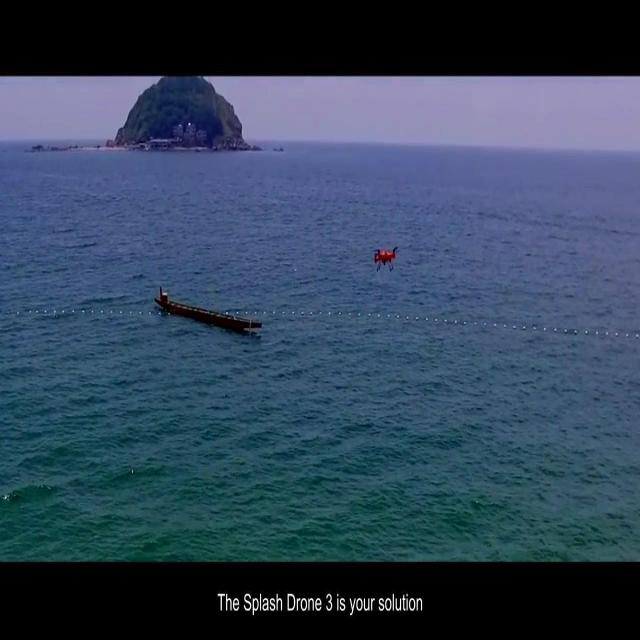UAV: (374, 246, 398, 272)
